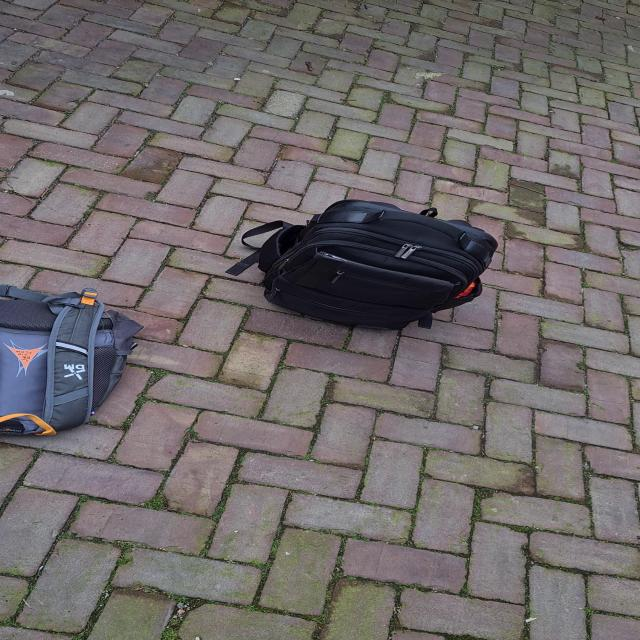backpack: (245, 194, 503, 334), (0, 280, 150, 436)
